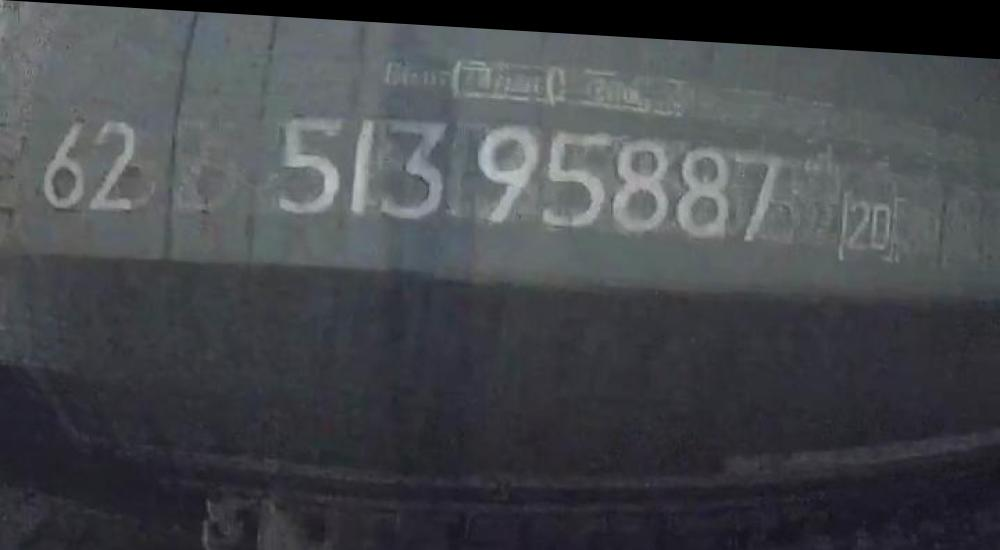Wagon-number: (269, 98, 793, 239)
